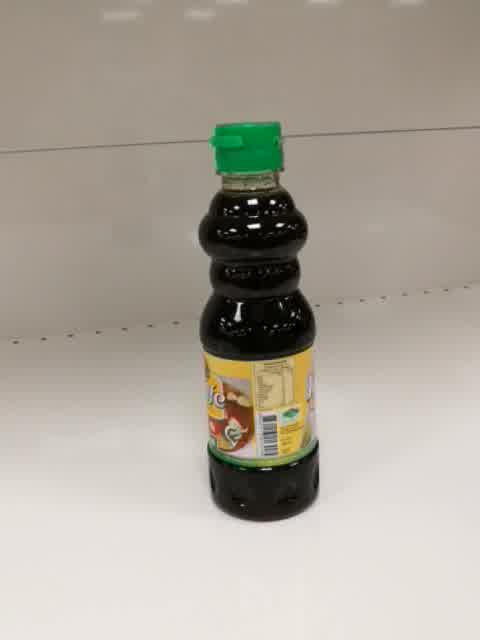cookingoil: (194, 120, 323, 523)
